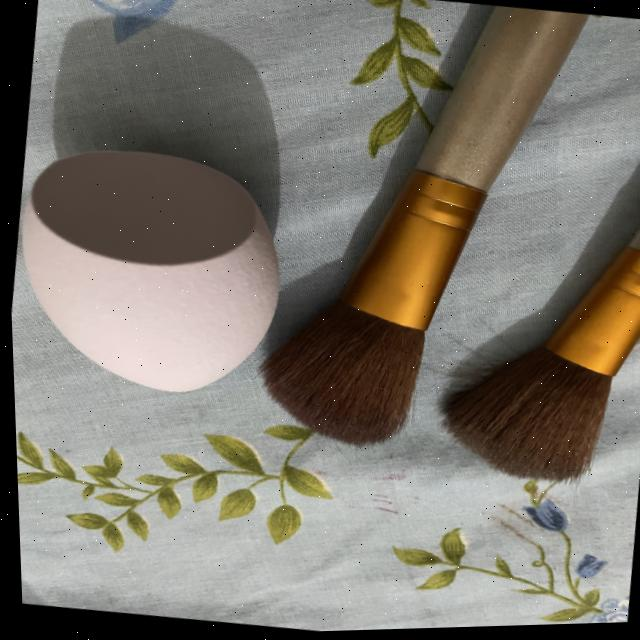beauty blender: (4, 121, 301, 422)
brush: (409, 256, 640, 508), (235, 285, 473, 473)
